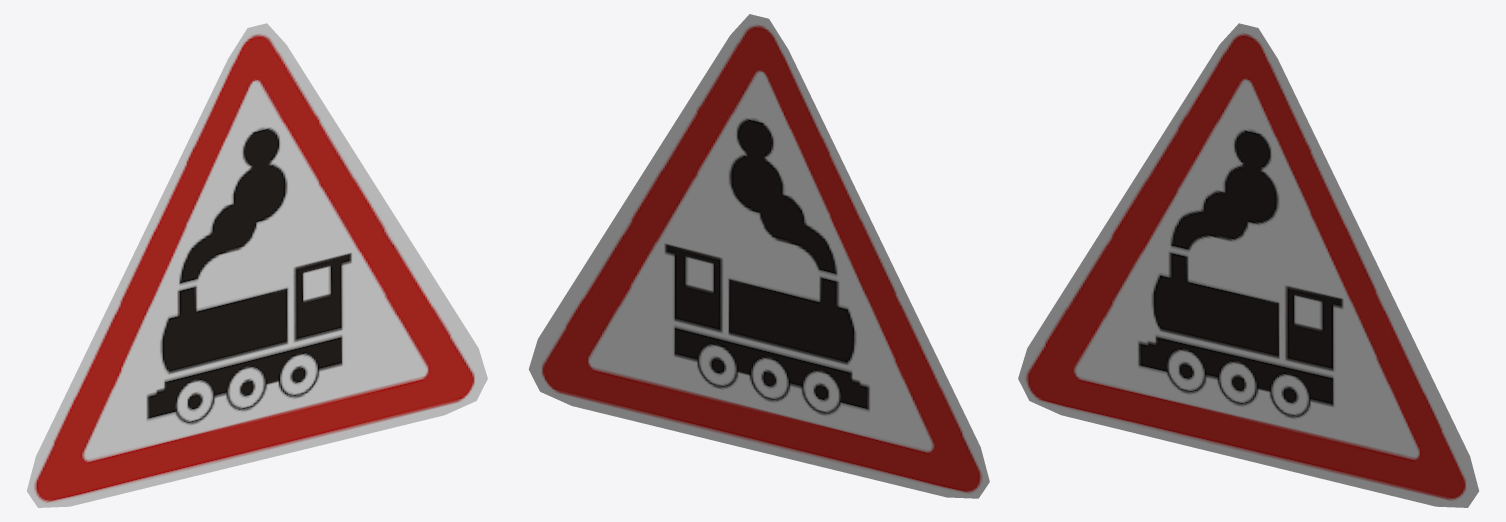
Rendered from SM_Road_Sign_08.fbx.
The picture shows the model from 3 angles, left to right: view 1: azimuth 30°, elevation 25°; view 2: azimuth 150°, elevation 25°; view 3: azimuth 330°, elevation 25°; orthographic projection.
Parts seen in each view (by area): view 1: SM_Road_Sign_08; view 2: SM_Road_Sign_08; view 3: SM_Road_Sign_08.
Boxes of the visible parts, <box> form: SM_Road_Sign_08: <box>27,23,487,507</box>; SM_Road_Sign_08: <box>528,14,989,498</box>; SM_Road_Sign_08: <box>1018,23,1478,507</box>.
Size of the model in its own units: 48.62 by 43.85 by 2.3.
